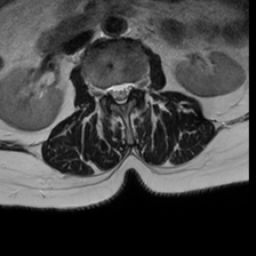CCS_normal: (116, 74, 124, 111)
LFS_normal: (132, 72, 141, 98)
LLS_normal: (124, 73, 132, 103)
RFS_stenosis: (100, 78, 108, 103)
RLS_normal: (108, 78, 116, 103)
